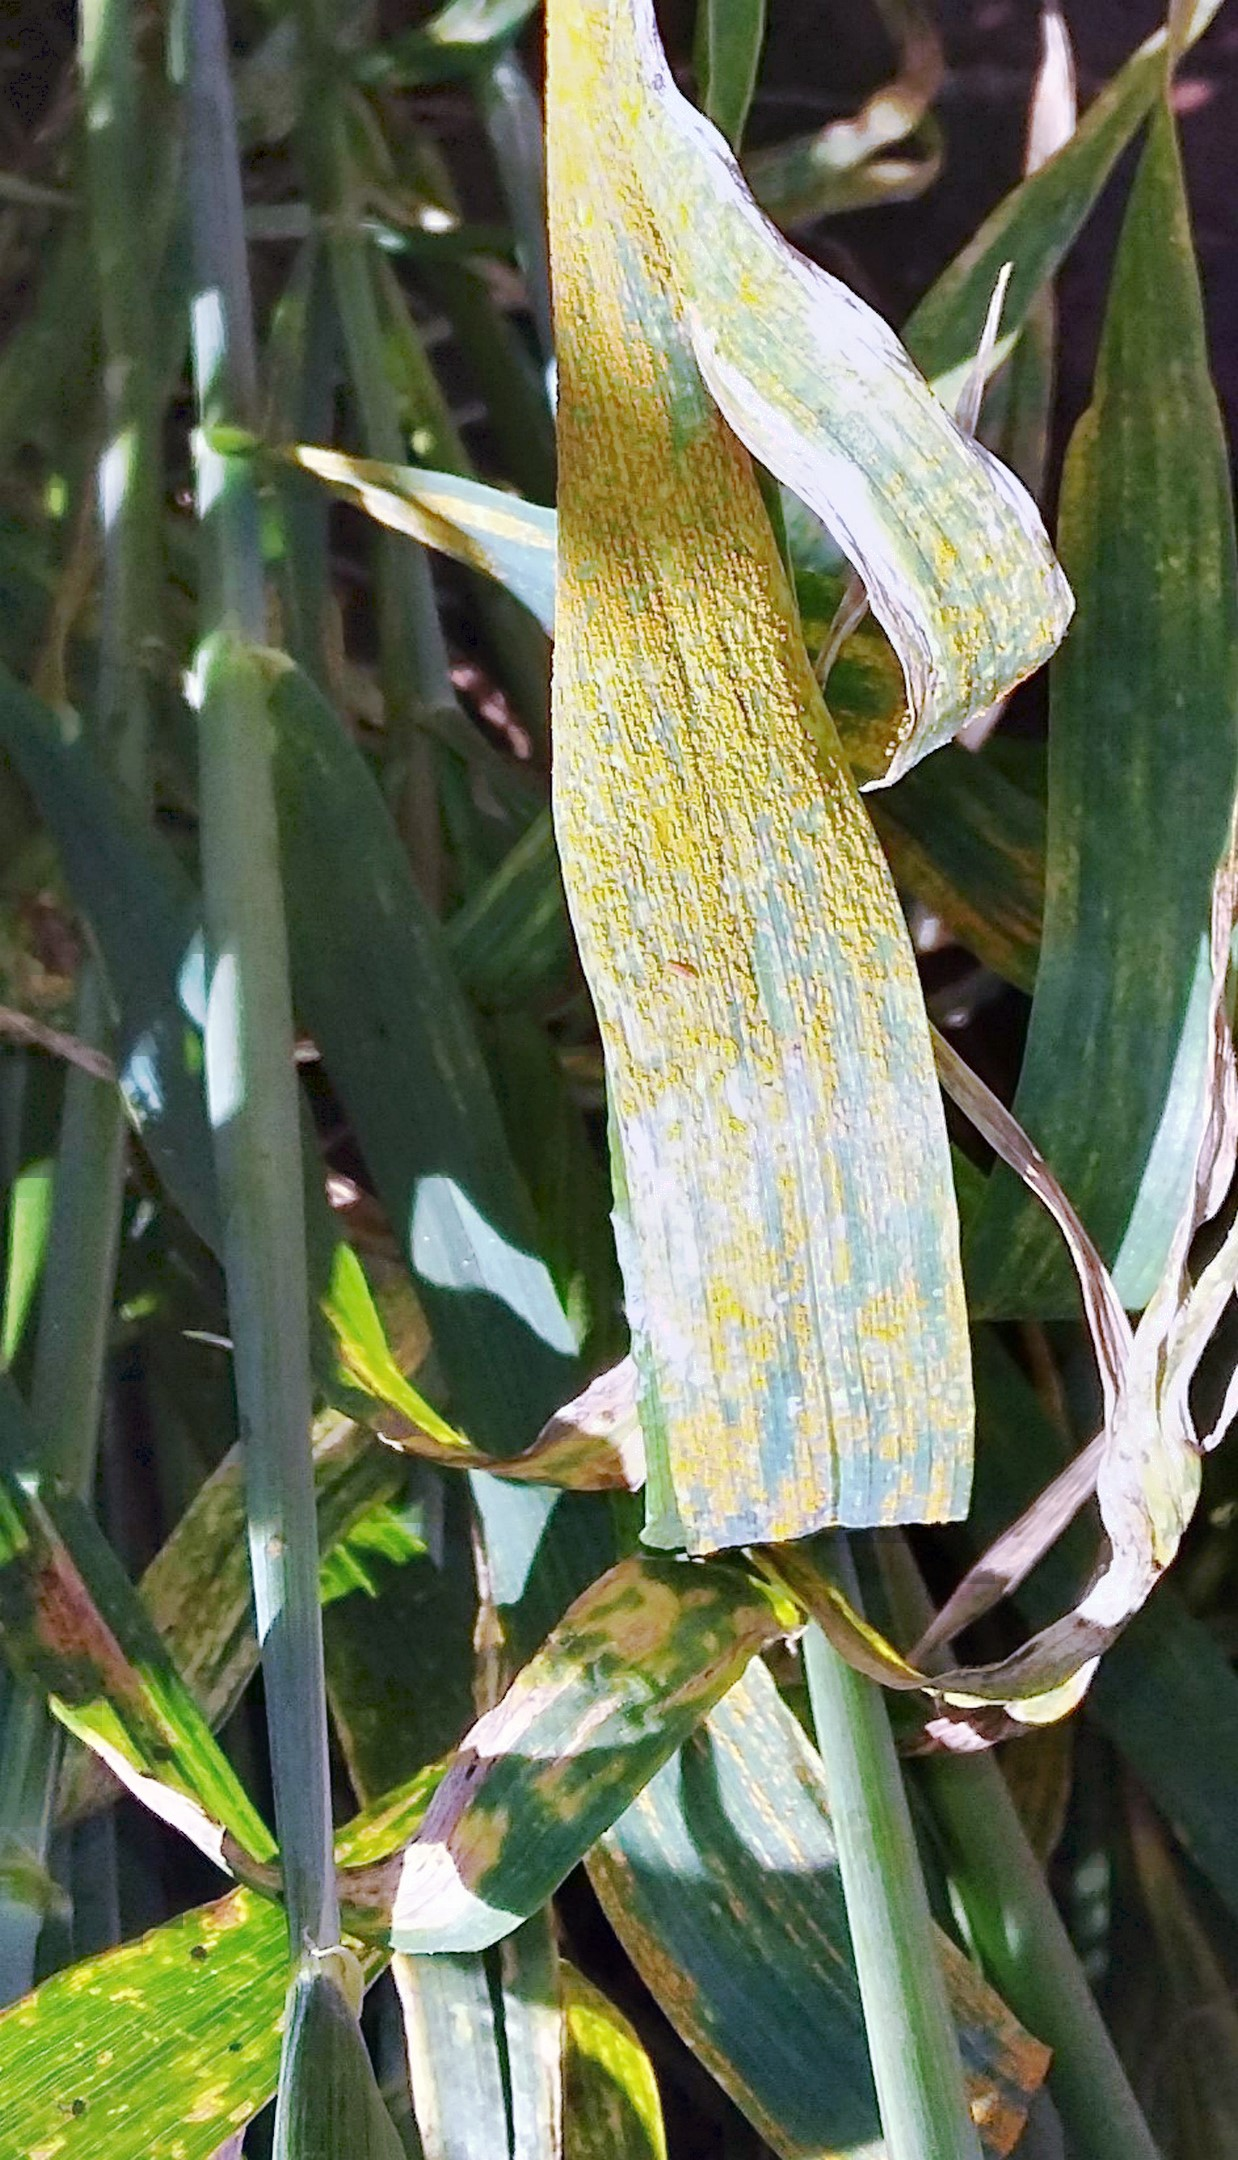Leaf Rust: (504, 131, 990, 1383)
